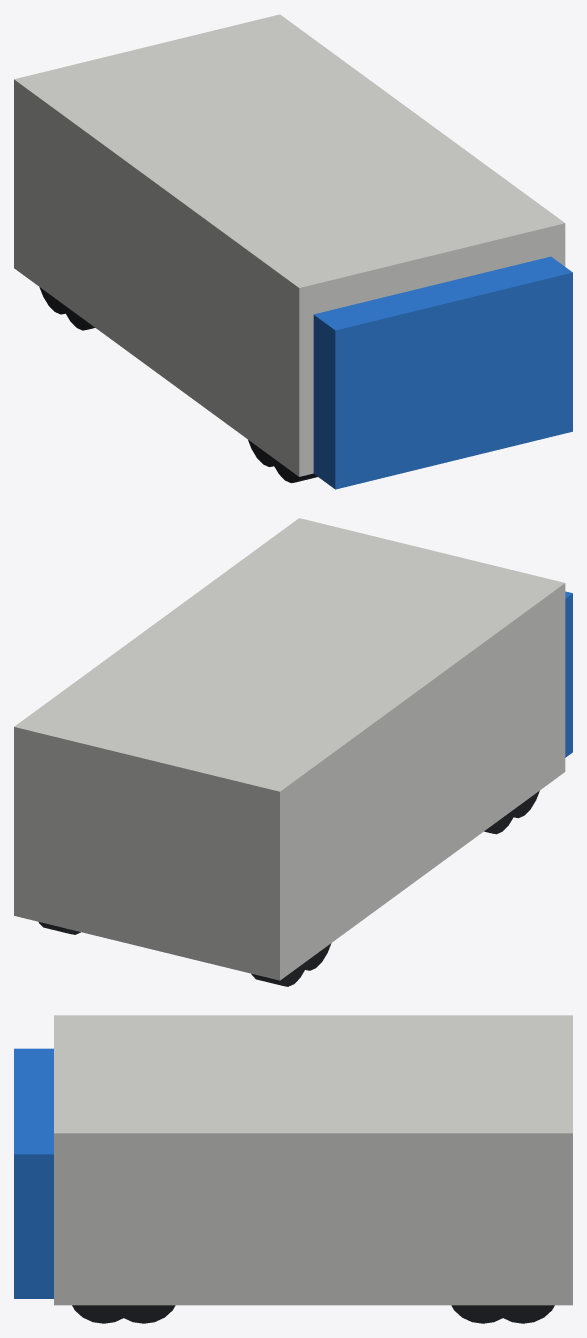
The model's file is obstacle-truck.gltf.
3 renders of one model, top to bottom at view 1: azimuth 30°, elevation 25°; view 2: azimuth 150°, elevation 25°; view 3: azimuth 270°, elevation 25°, orthographic. The views are drawn at different scales.
Bounding box in the file's own units: 2.8 × 2.17 × 5.6.
